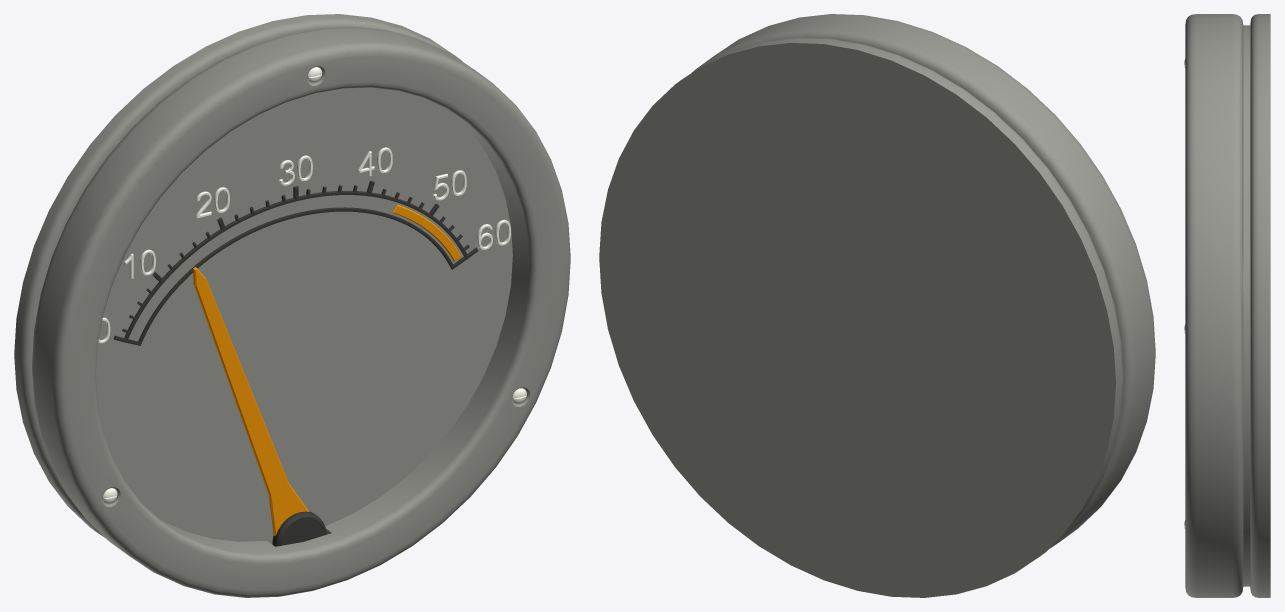
The model's file is Speedometer #6.fbx.
3 views of the same model, side by side, from view 1: azimuth 30°, elevation 25°; view 2: azimuth 150°, elevation 25°; view 3: azimuth 270°, elevation 25° (orthographic). The views are drawn at different scales.
Parts seen in each view (by area): view 1: kitbash_10; view 2: kitbash_10; view 3: kitbash_10.
Part boxes in pixels (x1=…): kitbash_10: x1=14, y1=14, x2=570, y2=597; kitbash_10: x1=599, y1=14, x2=1155, y2=597; kitbash_10: x1=1184, y1=14, x2=1270, y2=597.
Bounding box in the file's own units: 15.03 × 15.03 × 2.22.
